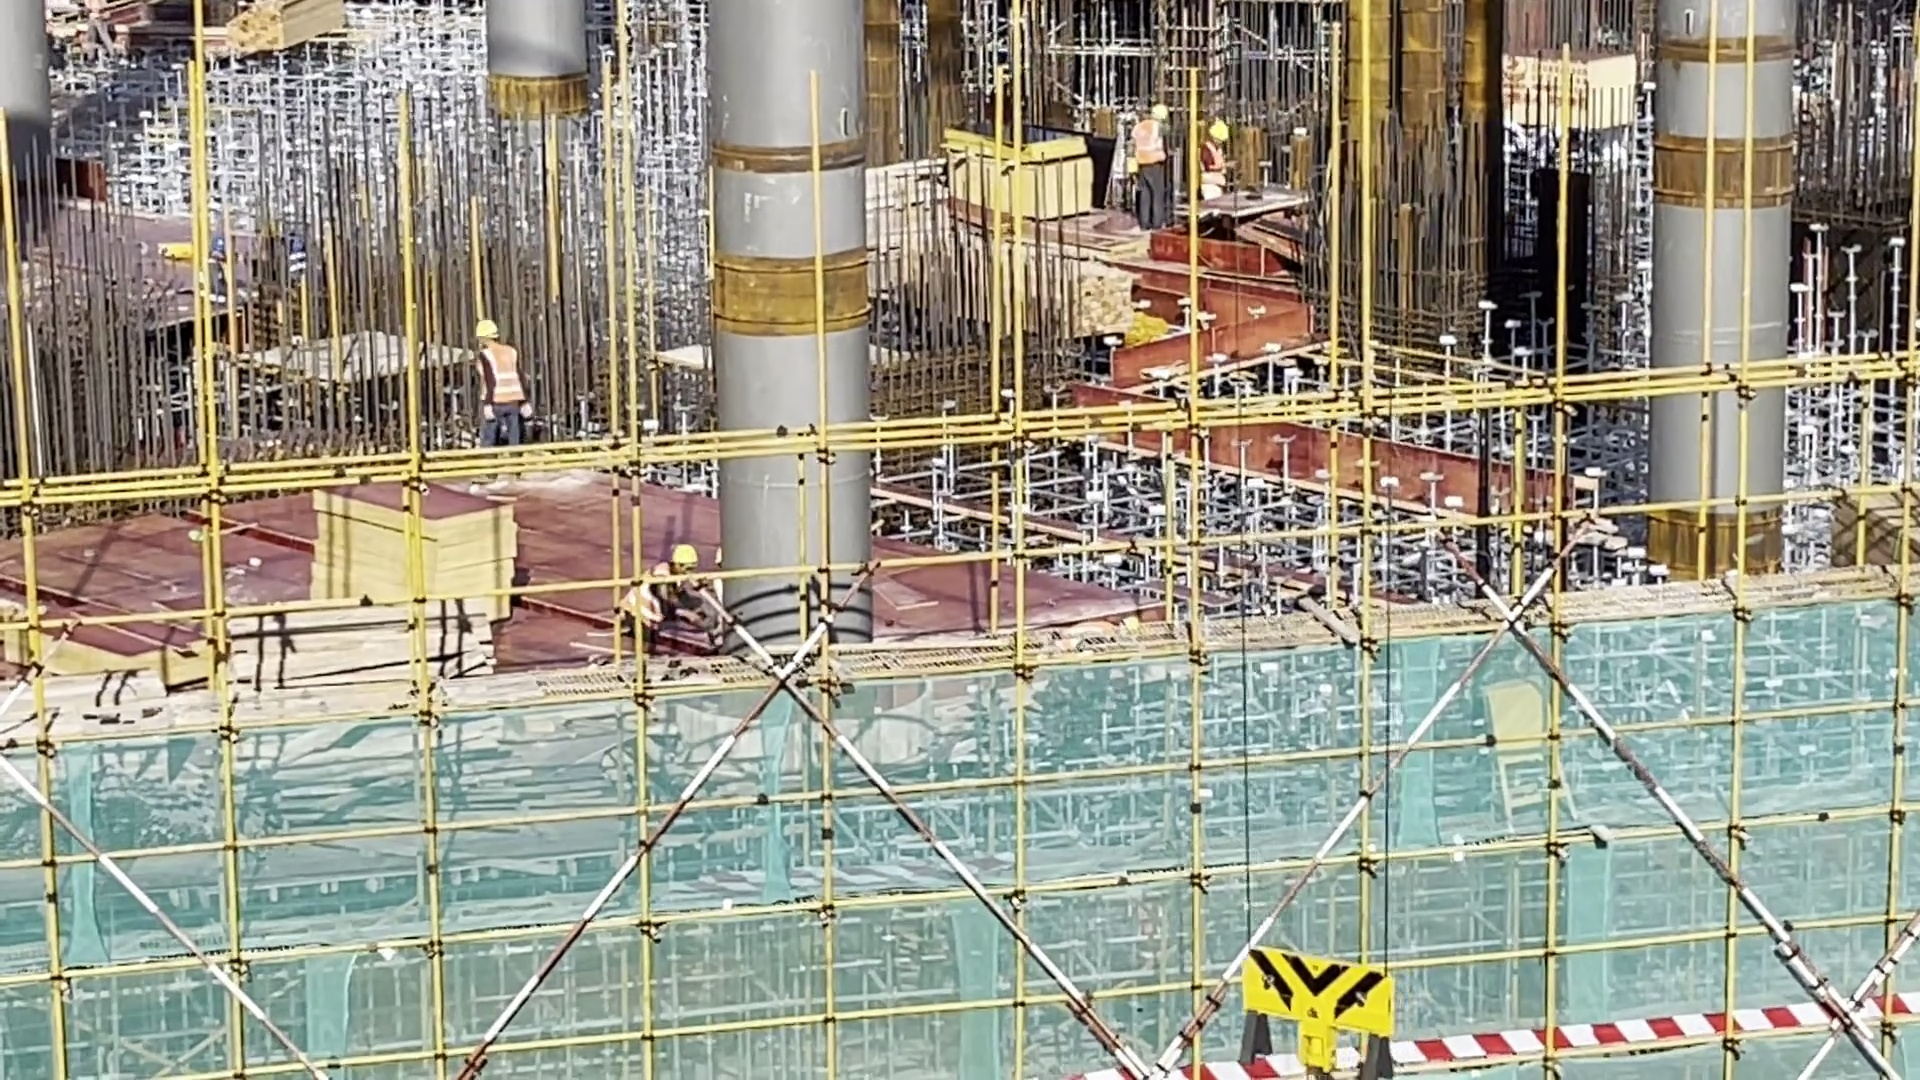board: (311, 480, 527, 638), (938, 120, 1104, 231), (1836, 487, 1920, 574)
ebox: (1481, 681, 1579, 832)
helmet: (670, 536, 702, 579), (476, 315, 505, 351), (1209, 121, 1229, 147), (1149, 101, 1170, 123)
hook: (1200, 928, 1439, 1080)
person: (619, 530, 708, 661), (468, 309, 538, 473), (1127, 94, 1180, 255), (1194, 111, 1243, 224)
vest: (619, 556, 679, 636), (476, 345, 536, 413), (1131, 118, 1174, 168)
wood: (211, 591, 504, 741), (205, 1, 364, 67)
